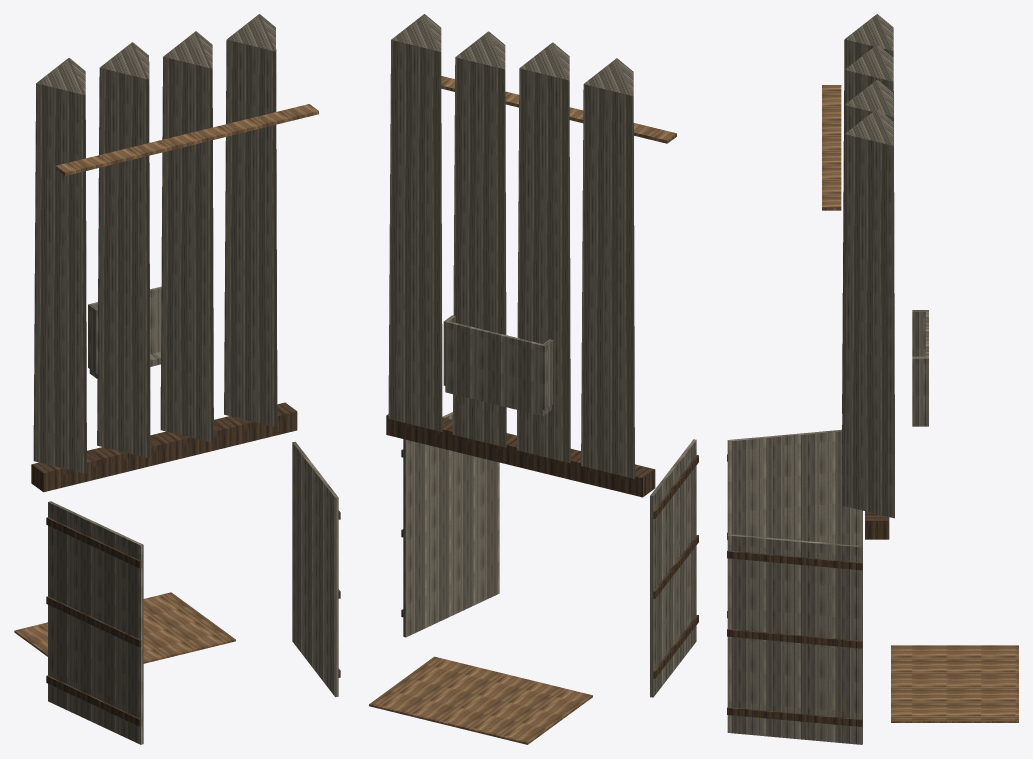
Rendered from Gate_Rampart_Wood_1_LOD2.gltf.
3 views of the same model, side by side, from view 1: azimuth 30°, elevation 25°; view 2: azimuth 150°, elevation 25°; view 3: azimuth 270°, elevation 25° (orthographic). The views are drawn at different scales.
Parts seen in each view (by area): view 1: Gate_Rampart_Wood_1_LOD2; view 2: Gate_Rampart_Wood_1_LOD2; view 3: Gate_Rampart_Wood_1_LOD2.
Part boxes in pixels (<box>): Gate_Rampart_Wood_1_LOD2: <box>14,14,340,744</box>; Gate_Rampart_Wood_1_LOD2: <box>369,14,698,744</box>; Gate_Rampart_Wood_1_LOD2: <box>727,14,1018,744</box>.
Bounding box in the file's own units: 8.4 × 19.95 × 8.45.
3 materials, 3 textured.
